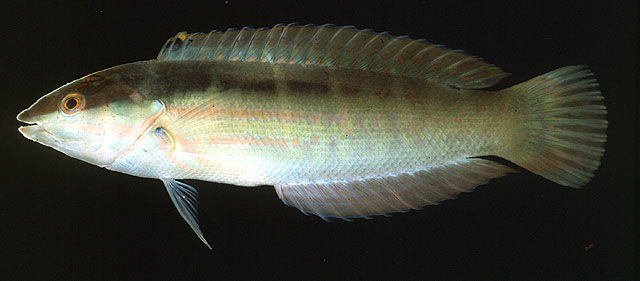fish: (16, 23, 609, 253)
